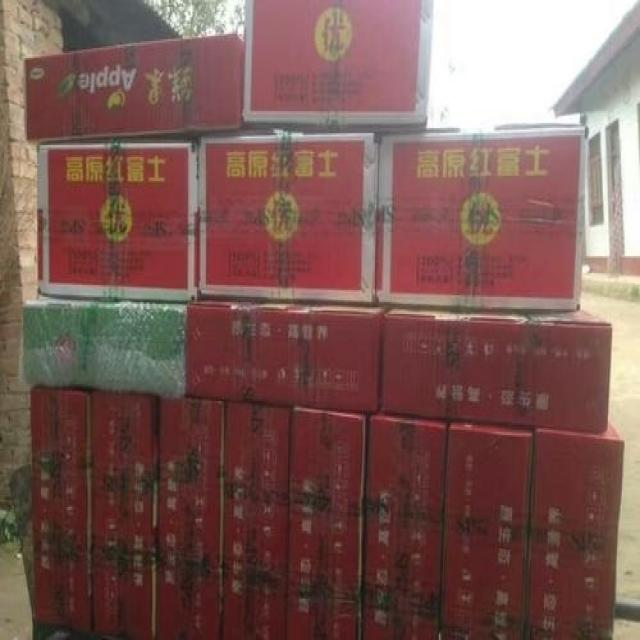box: (376, 125, 587, 312), (201, 133, 380, 303), (382, 304, 612, 432), (38, 141, 200, 302), (242, 0, 433, 134), (23, 34, 245, 145), (186, 297, 391, 412), (525, 423, 623, 638), (440, 420, 535, 638), (361, 415, 448, 638), (285, 404, 365, 638), (221, 398, 290, 638), (157, 395, 224, 638), (92, 390, 157, 638), (22, 298, 188, 395), (32, 385, 91, 633)
